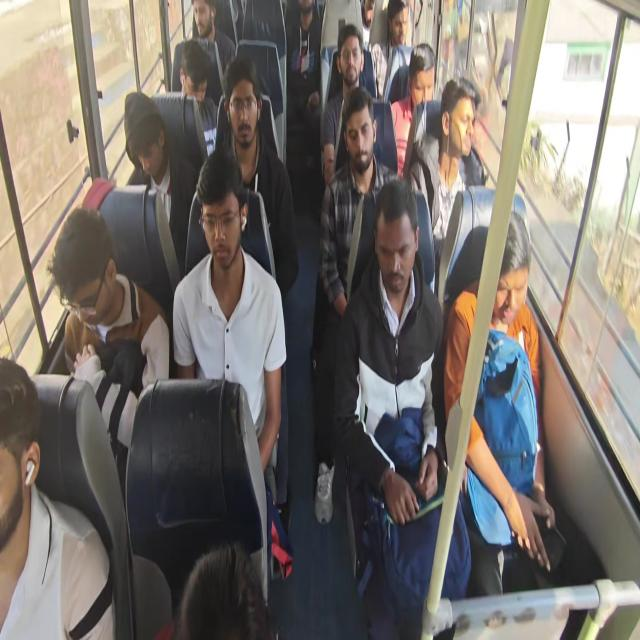person: (0, 362, 44, 552), (56, 214, 115, 336), (488, 214, 533, 326), (372, 200, 418, 300), (197, 172, 240, 260), (125, 104, 165, 178), (447, 86, 479, 157), (177, 44, 210, 111), (227, 78, 256, 152), (343, 102, 374, 170), (407, 47, 436, 113), (336, 27, 364, 83), (183, 0, 216, 39), (387, 0, 412, 48), (292, 0, 318, 22)
